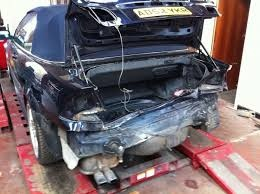Smashed: (56, 54, 226, 180)
